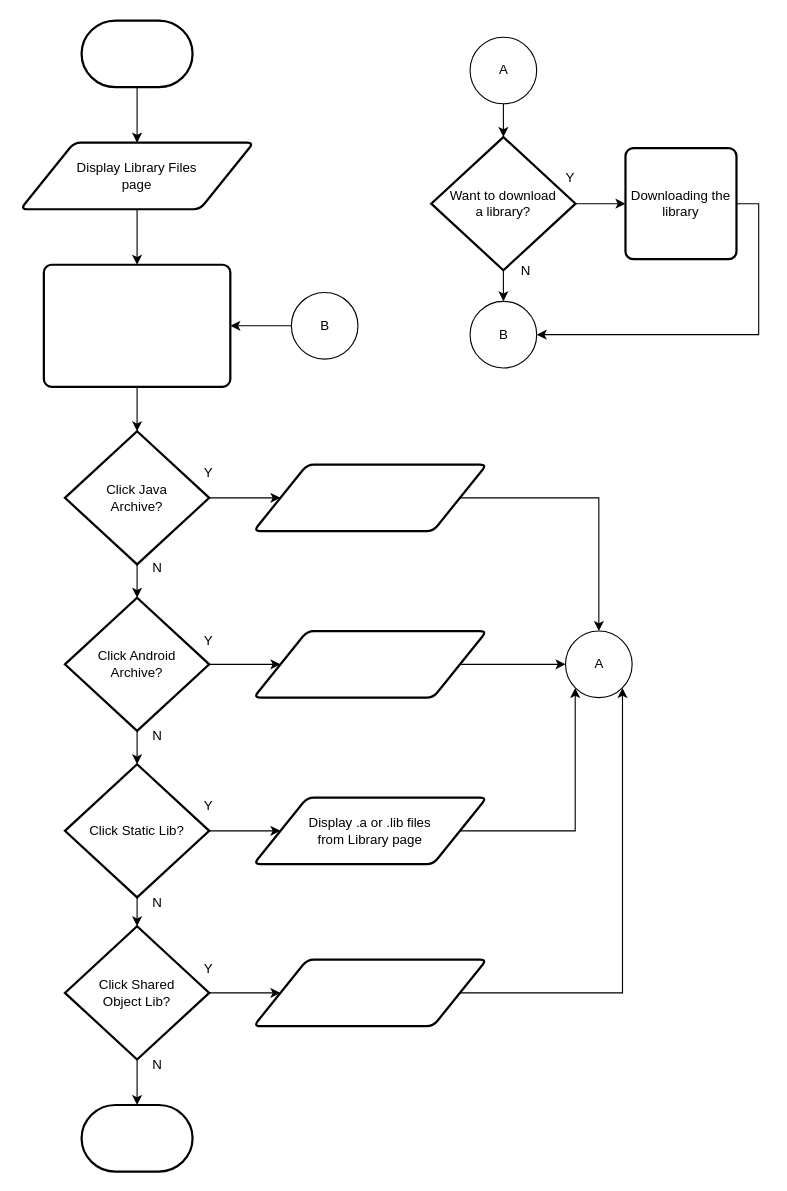
The diagram is 787 pixels wide and 1191 high, and some of its shapes have lost their labels. Each missing label, with the centre of its shape:
"1. Java Archive 2. Android Archive 3. Static Lib 4. Shared Object Lib" goes at point (136, 325).
"Display .aar files from Library page" goes at point (369, 663).
"Display .jar files from Library page" goes at point (369, 497).
"Display .so files from Library page" goes at point (369, 992).
"End" goes at point (136, 1137).
"Start" goes at point (136, 53).
